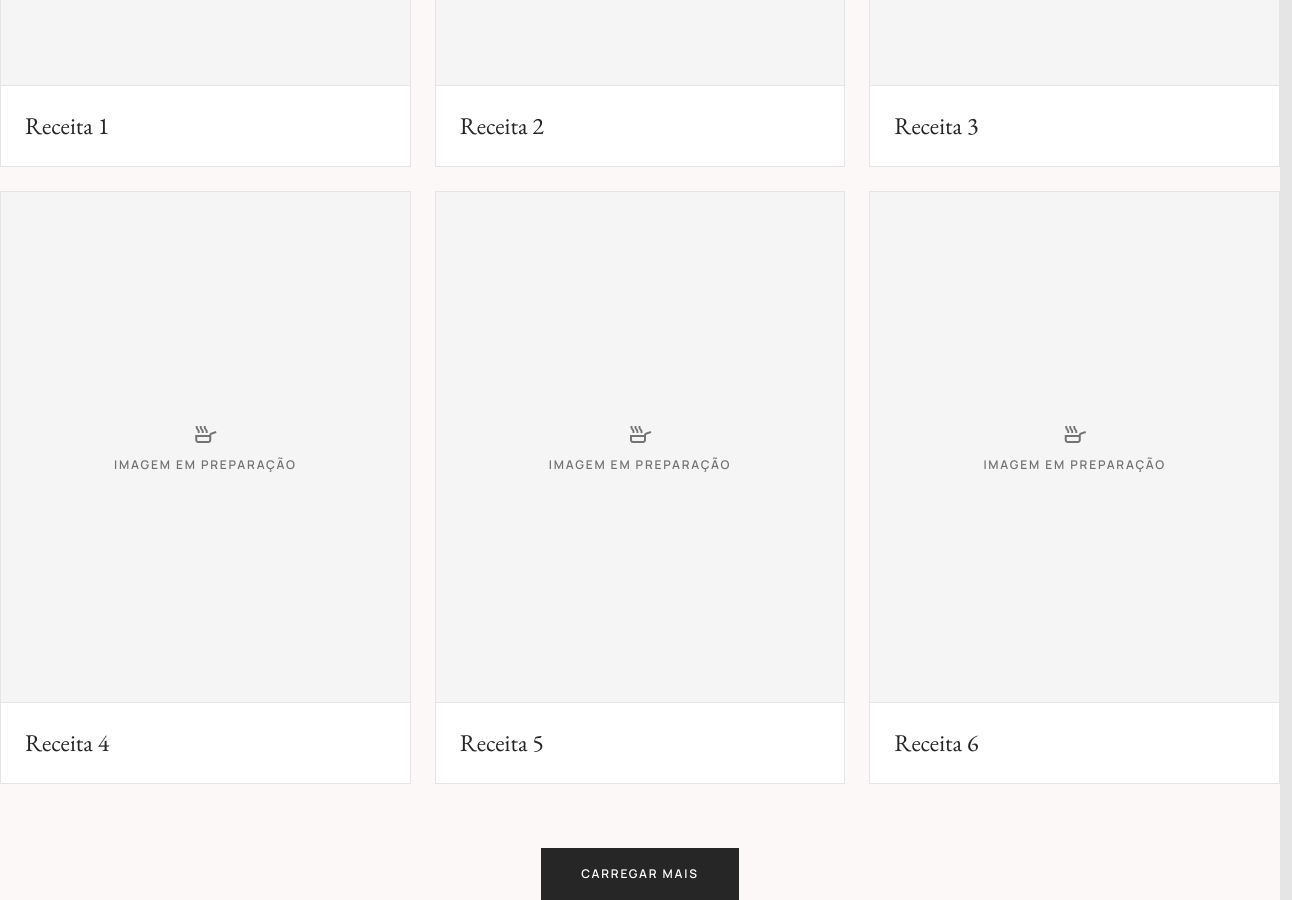
Test: GaleriaReceitas › clique em 'Carregar mais' carrega mais 6 (total acumulado 12) e não duplica
(page scrolled)
Click the button "Carregar mais". click: (640, 874)
box: [541,848,739,899]
(page scrolled)
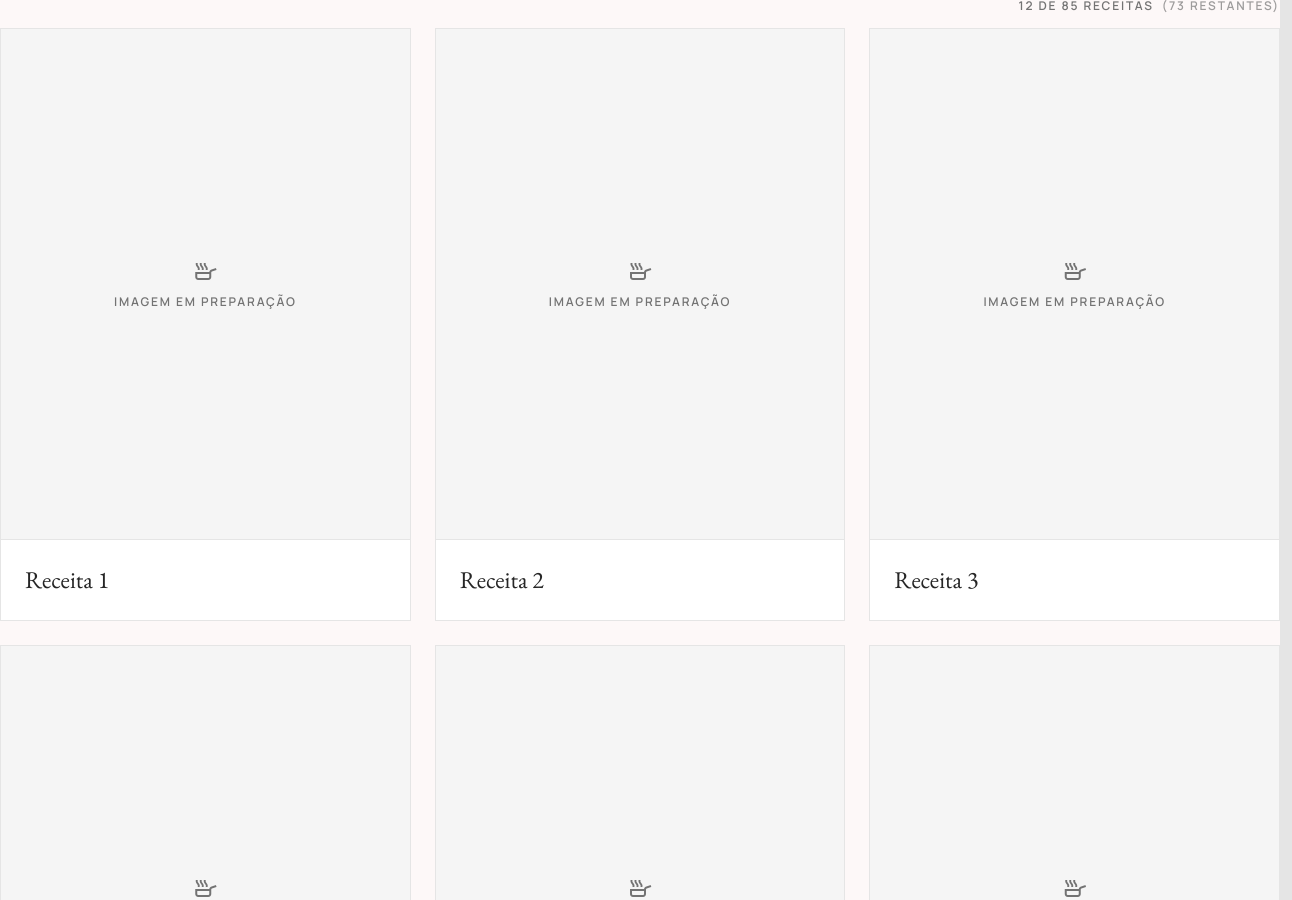
expect the text "12 de 85 receitas(73 restantes)" is shown: met, box [1018,0,1280,12]
expect the number of links is 12: met
